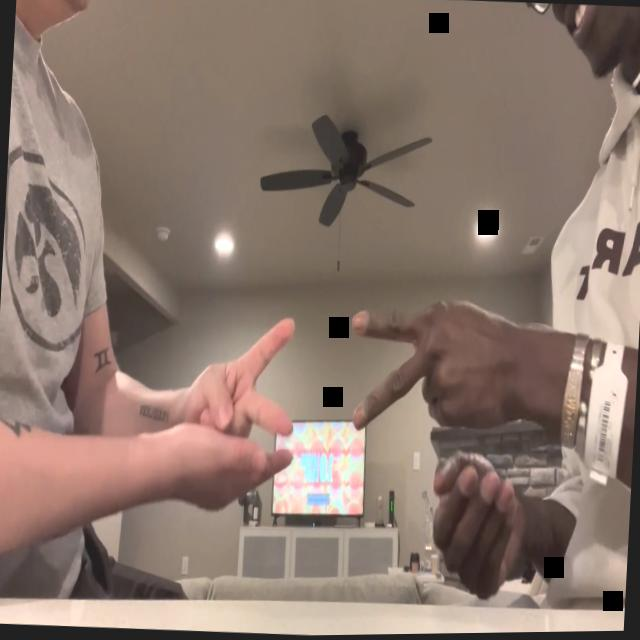Scissors: (347, 292, 538, 441), (178, 316, 300, 442)
